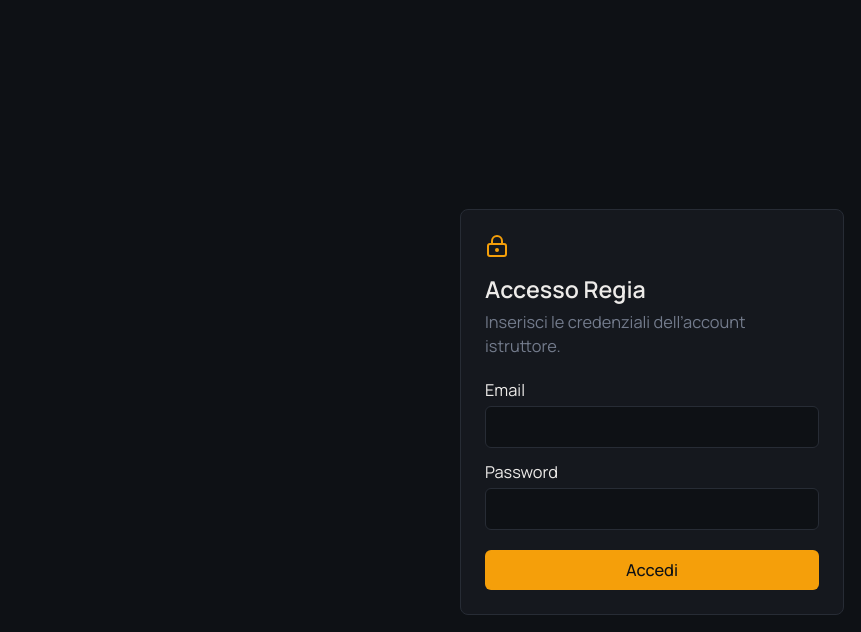
Test: InstructorAuthGate › consente l'accesso dopo login di un instructor
Type "istruttore@example.test" into the field labelled "Email" at (652, 427), box x1=485 y1=406 x2=819 y2=448
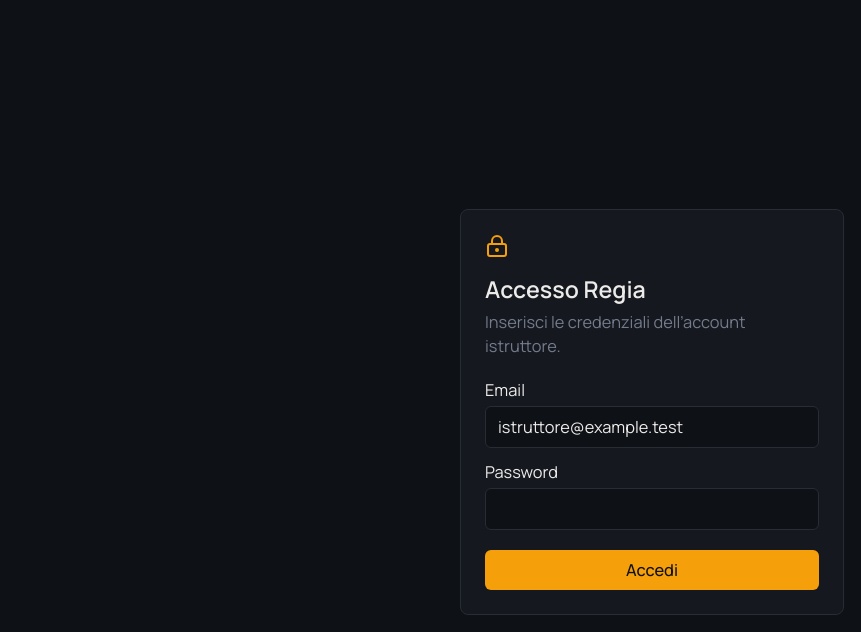
Type "password-locale" into the password field labelled "Password" at (652, 509), box x1=485 y1=488 x2=819 y2=530
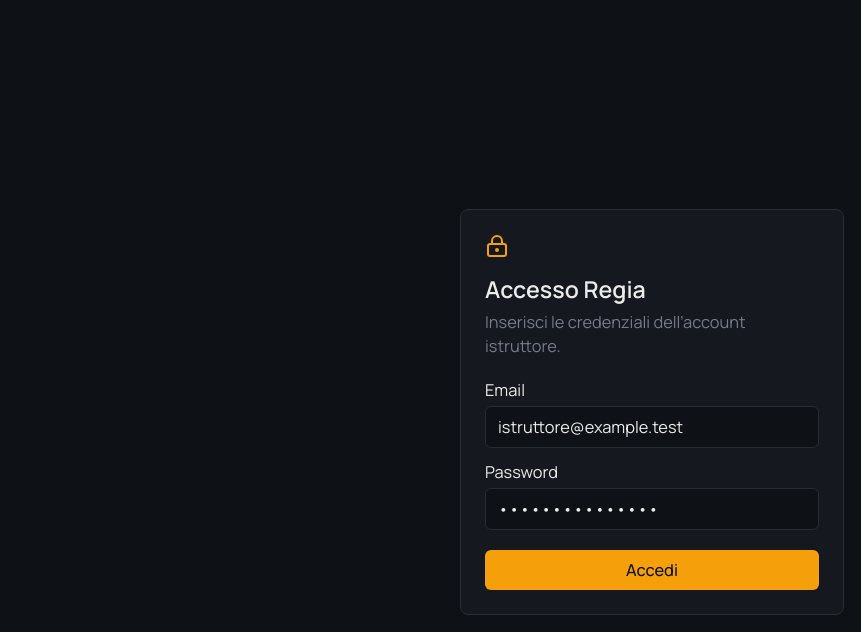
Click the button "Accedi" at (652, 570), box x1=485 y1=550 x2=819 y2=590
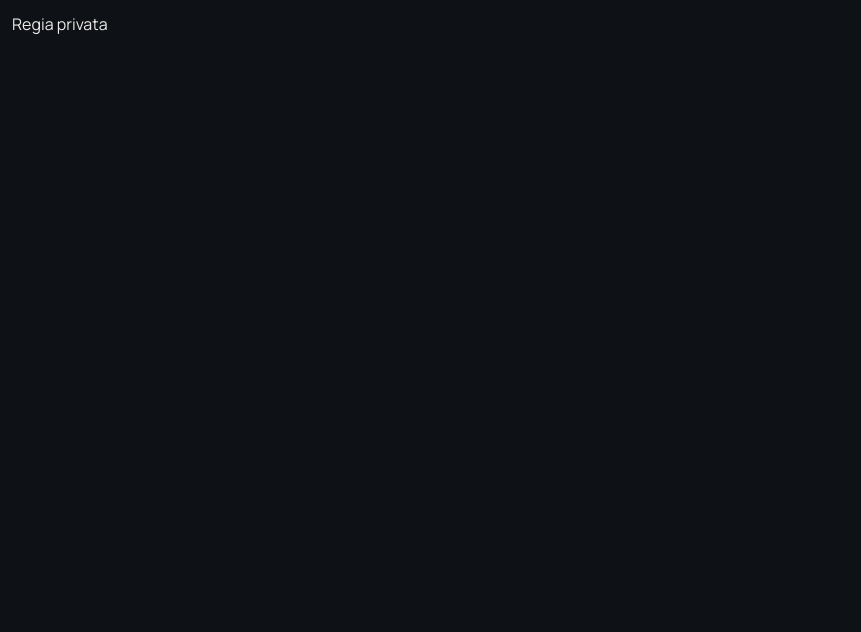
Check: the text "Regia privata" is shown, box x1=12 y1=13 x2=108 y2=35
